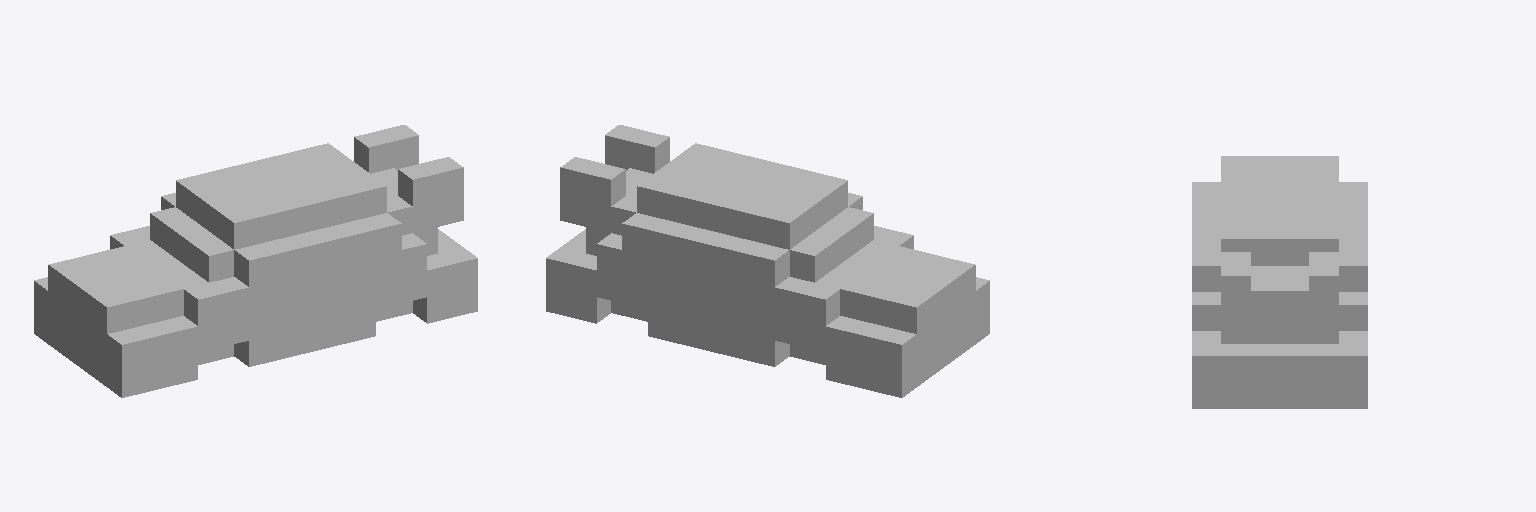
File: racer-v5-yellow.obj
3 views of the same model, side by side, from view 1: azimuth 30°, elevation 25°; view 2: azimuth 150°, elevation 25°; view 3: azimuth 270°, elevation 25° (orthographic).
Parts seen in each view (by area): view 1: object 1; view 2: object 1; view 3: object 1.
Boxes of the visible parts, <box> form: object 1: <box>34,125,477,397</box>; object 1: <box>546,125,989,397</box>; object 1: <box>1192,156,1367,408</box>.
Size of the model in its own units: 1.4 by 0.5 by 0.6.